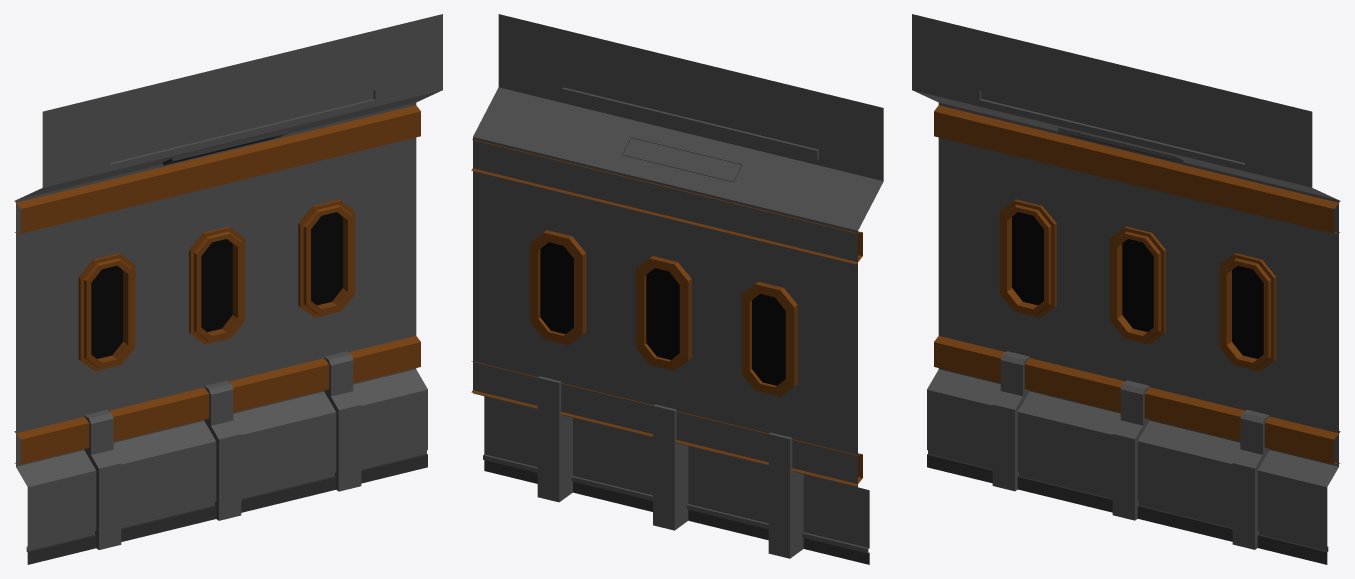
Rendered from ThreeWindows_Wall_SideB.obj.
3 views of the same model, side by side, from view 1: azimuth 30°, elevation 25°; view 2: azimuth 150°, elevation 25°; view 3: azimuth 330°, elevation 25° (orthographic). The views are drawn at different scales.
Visible parts, largest first — view 1: ThreeWindows_Wall_SideB_Plane.036; view 2: ThreeWindows_Wall_SideB_Plane.036; view 3: ThreeWindows_Wall_SideB_Plane.036.
Part boxes in pixels (x1,y1,x2,y2): ThreeWindows_Wall_SideB_Plane.036: [14, 14, 442, 564]; ThreeWindows_Wall_SideB_Plane.036: [471, 14, 883, 564]; ThreeWindows_Wall_SideB_Plane.036: [912, 14, 1340, 564].
Size of the model in its own units: 4 by 4.43 by 0.5261.
